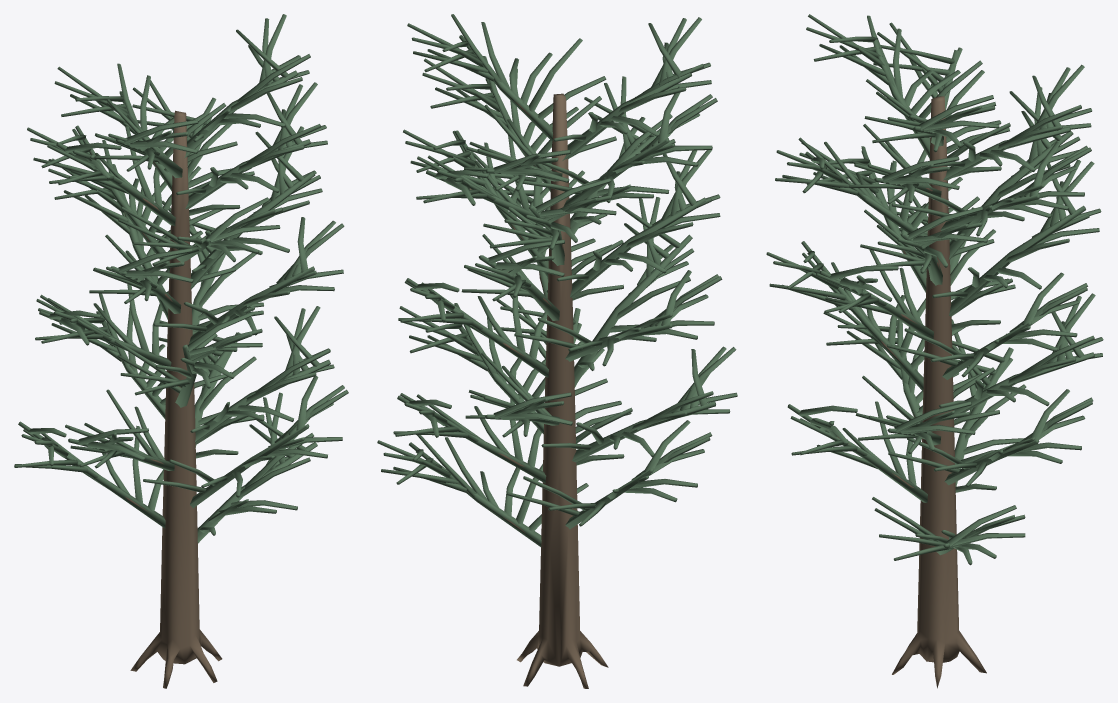
The model's file is Genevrier_0_Niveau0.fbx.
The picture shows the model from 3 angles, left to right: view 1: azimuth 30°, elevation 25°; view 2: azimuth 150°, elevation 25°; view 3: azimuth 270°, elevation 25°; orthographic projection. The views are drawn at different scales.
Visible parts, largest first — view 1: Genevrier_0_Niveau0_Jeu; view 2: Genevrier_0_Niveau0_Jeu; view 3: Genevrier_0_Niveau0_Jeu.
Boxes of the visible parts, x1=… form: Genevrier_0_Niveau0_Jeu: x1=14, y1=14, x2=348, y2=688; Genevrier_0_Niveau0_Jeu: x1=377, y1=14, x2=737, y2=688; Genevrier_0_Niveau0_Jeu: x1=766, y1=14, x2=1103, y2=688.
Size of the model in its own units: 74.87 by 146 by 71.24.
